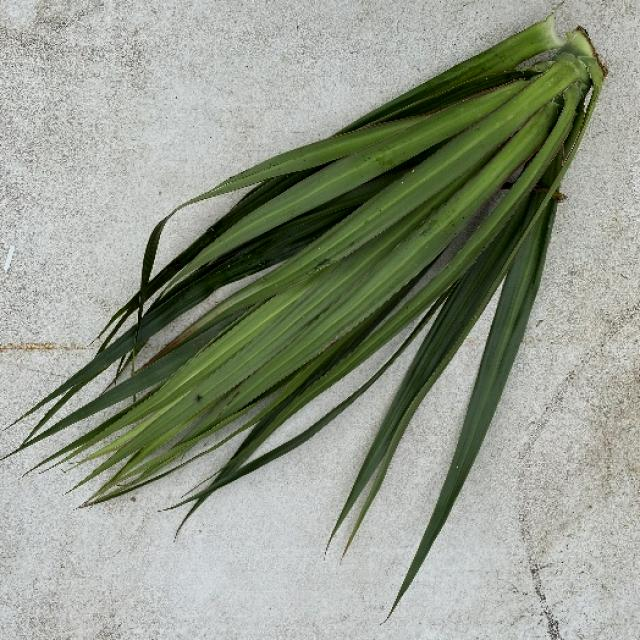organic: (372, 396, 507, 625)
